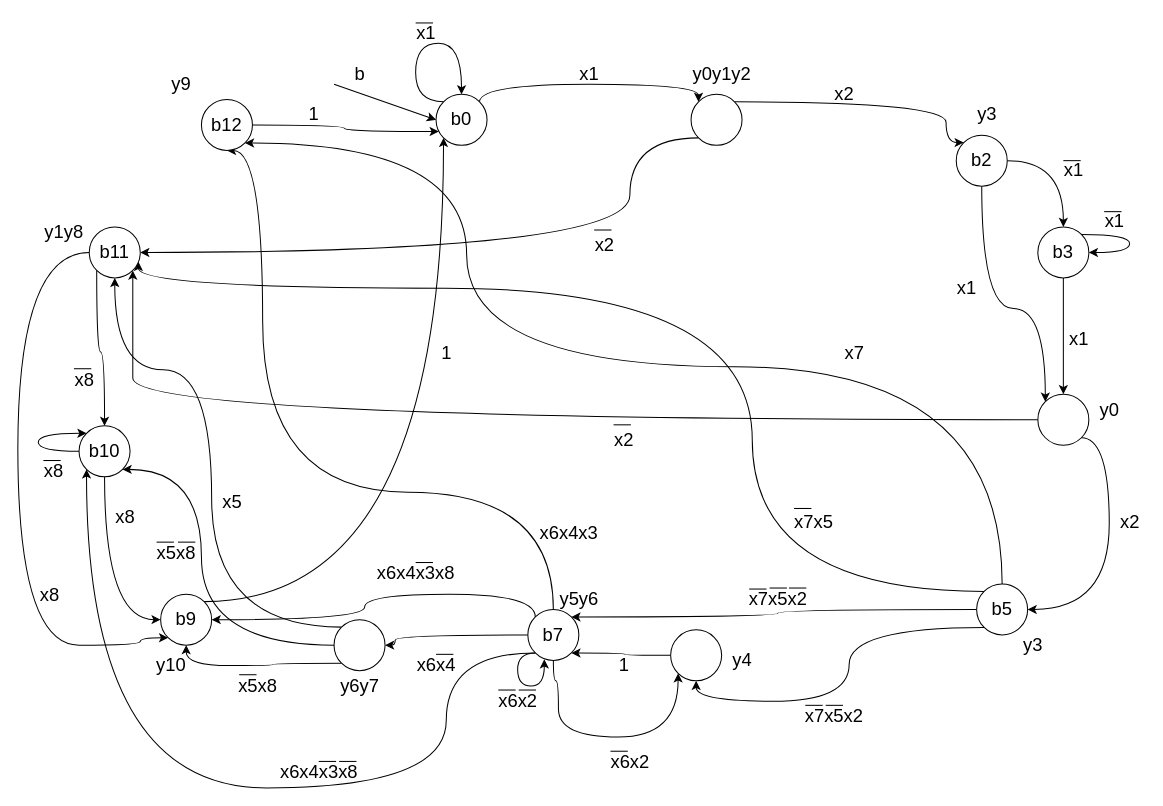
Image size: 1163x806. Some labels were removed from this diagram. Each missing label, with the centre of its shape:
b1: point (716, 119)
b4: point (1063, 419)
b6: point (696, 655)
b8: point (359, 645)
